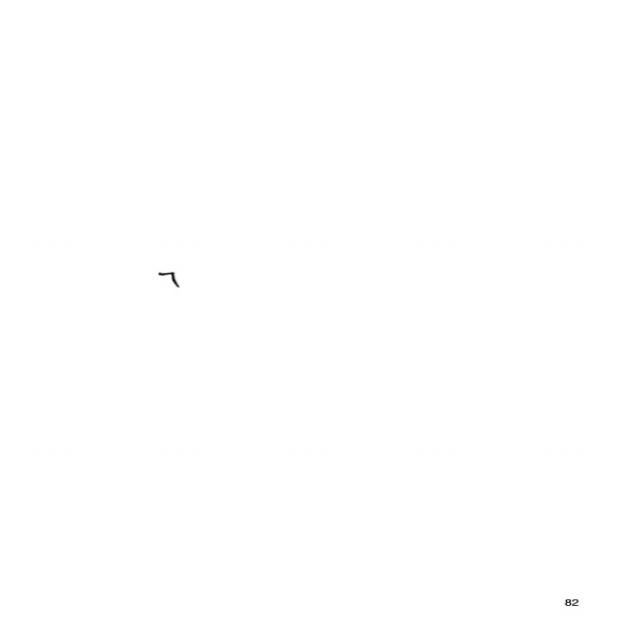6 -six-: (157, 271, 182, 288)
